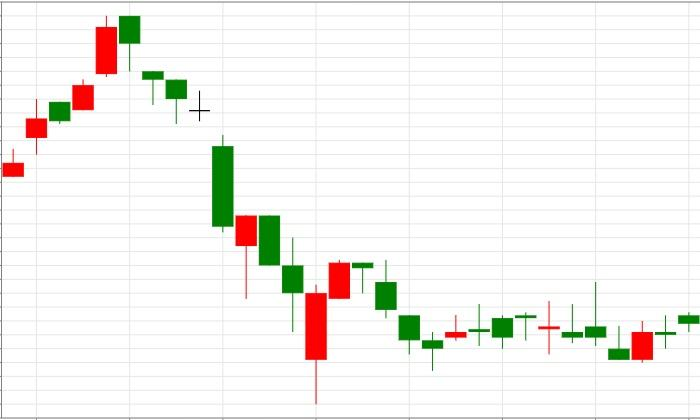hammer_rise: (120, 15, 257, 299)
hanging_man_fall: (2, 16, 141, 177)
